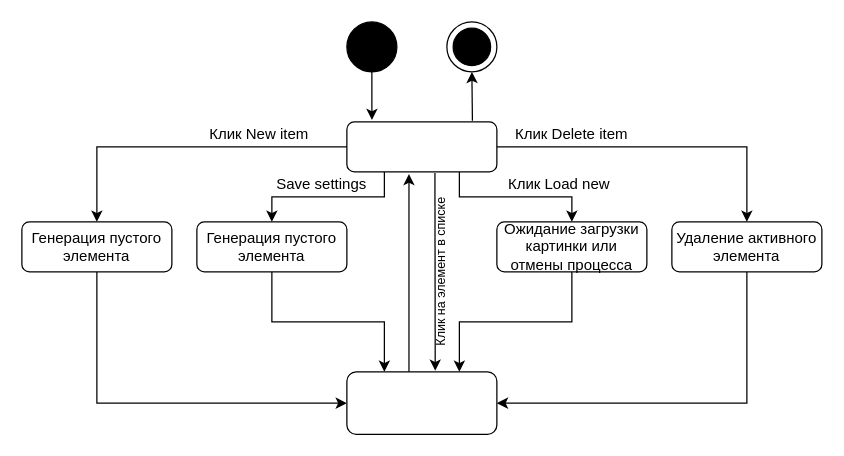
This 844x456 diagram has some shape labels left out. Here are the shapes that lost their labels. From the top down, the centre of each, then its label:
[421,146]: Бездействие
[421,402]: Переключение окна Info на последний активный элемент
